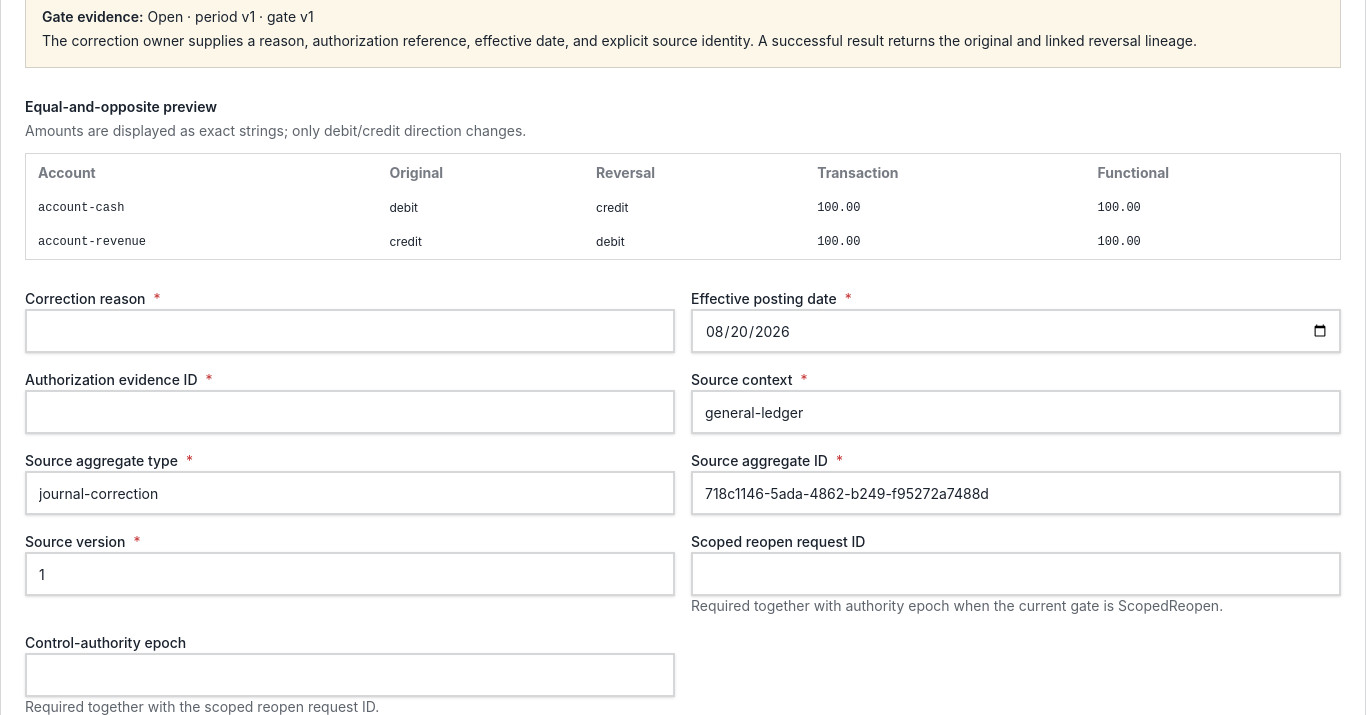
it: GL posting workbench › previews and submits a linked reversal with explicit reason and source evidence
The width and height of the screenshot is (1366, 715).
(page scrolled)
Expected: the heading "Equal-and-opposite preview" is shown, [25,98,217,115]
Type "Correct classification" into the field labelled "Correction reason".
click(350, 331); type("Correct classification")  # box [25,309,675,353]
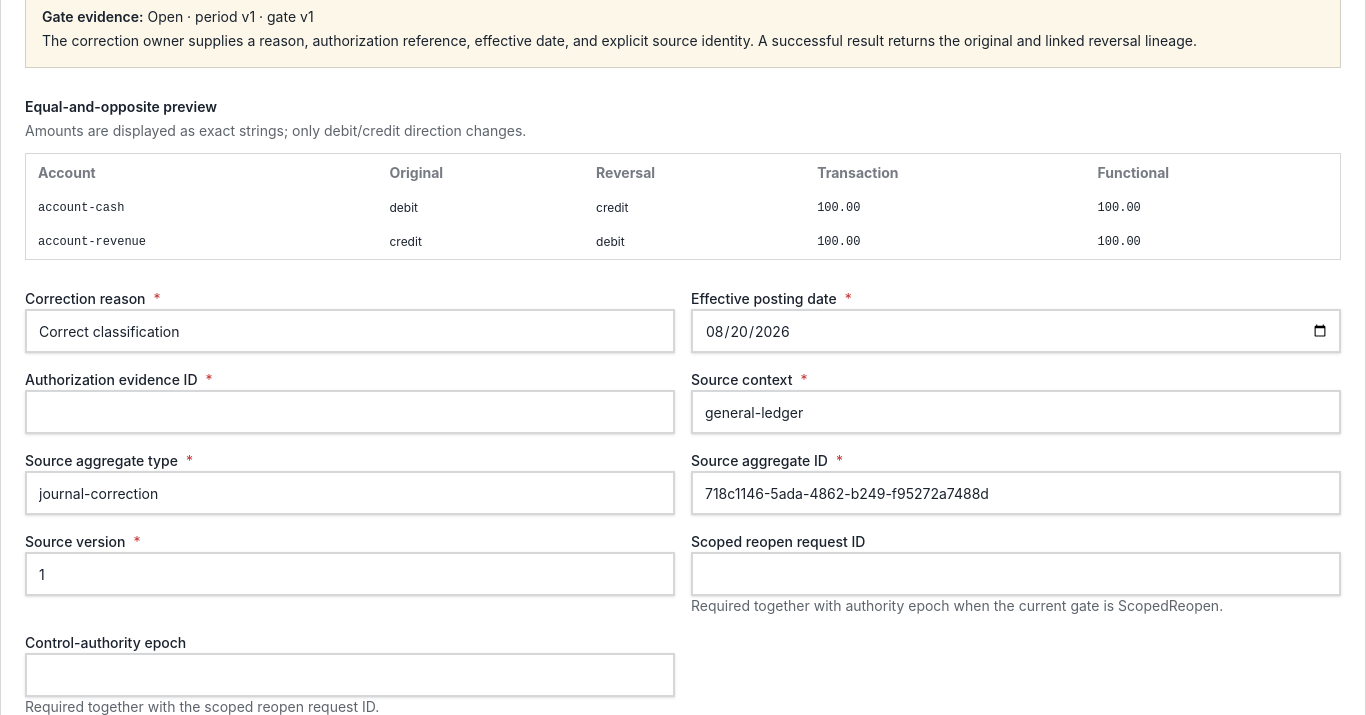
Type "authorization-1" into the field labelled "Authorization evidence ID".
click(350, 412); type("authorization-1")  # box [25,390,675,434]
(page scrolled)
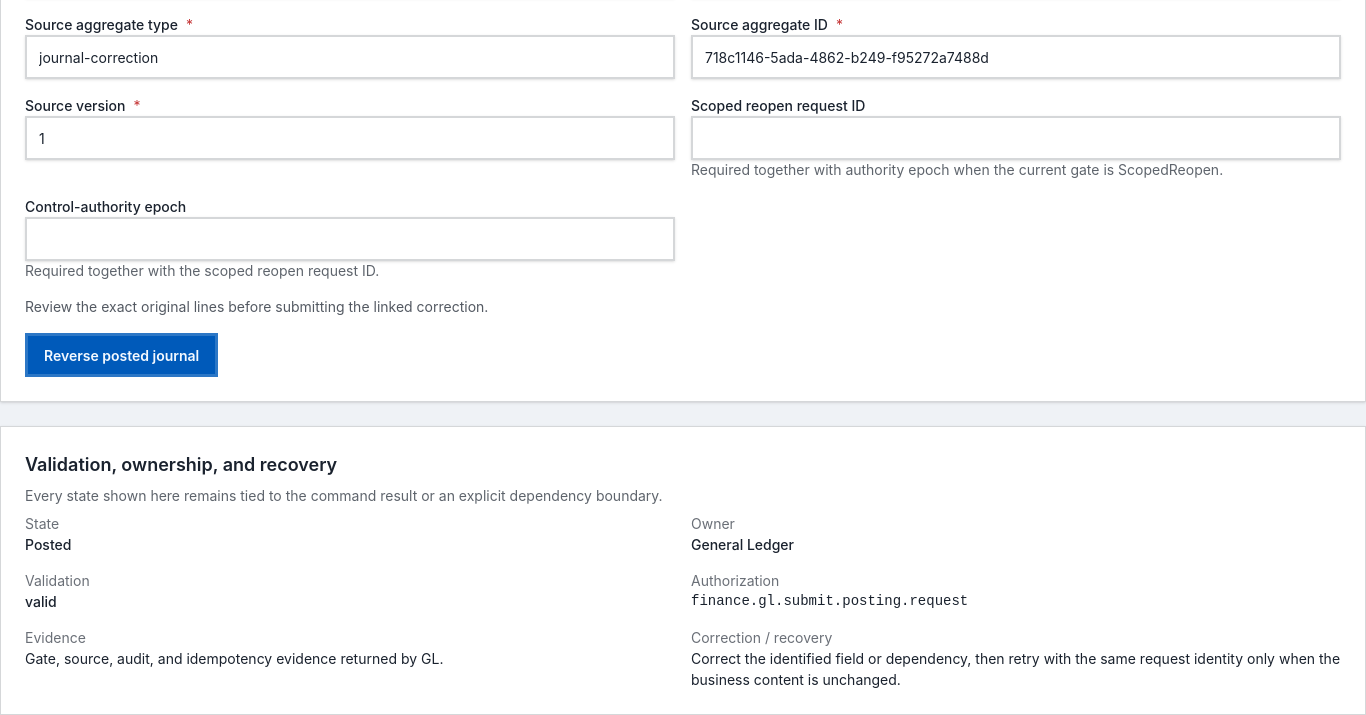
Click the button "Reverse posted journal".
click(122, 355)  # box [25,333,218,377]
(page scrolled)
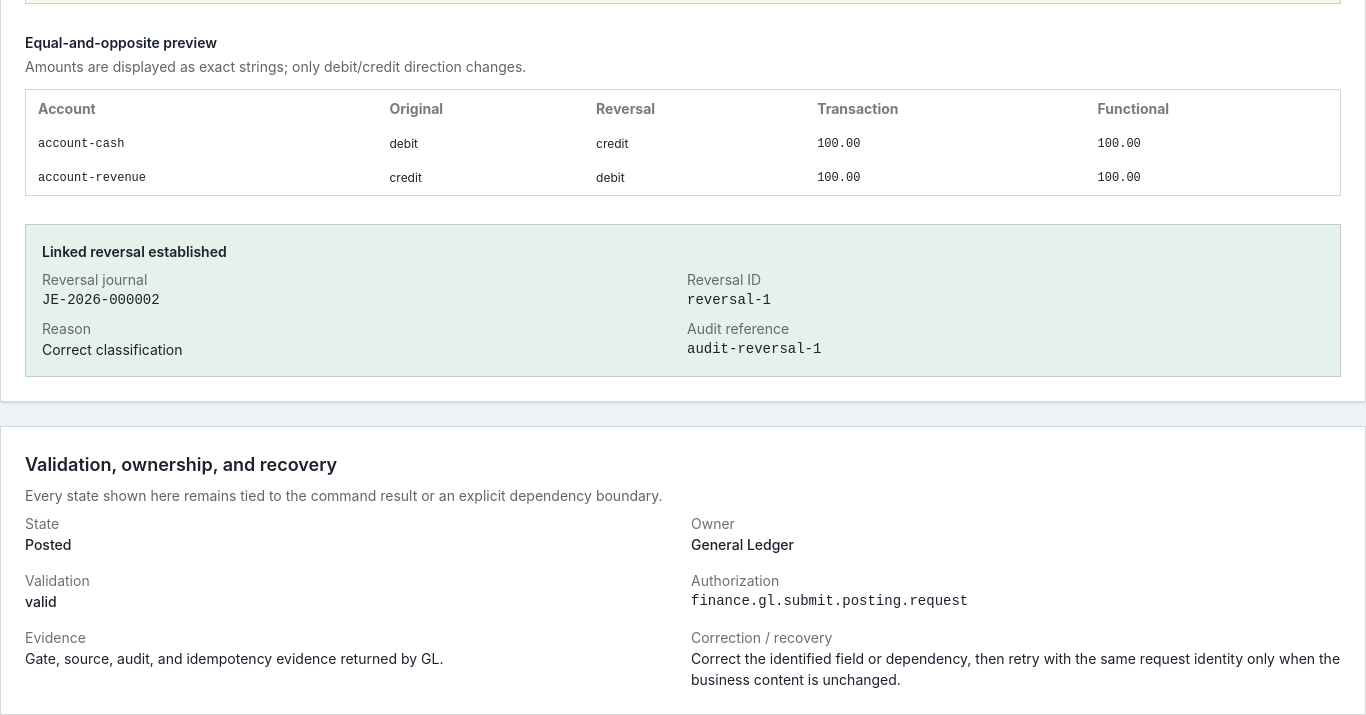
Expected: the text "Correct classification" is shown, [42,341,182,358]
Expected: the text "Linked reversal established" is shown, [42,243,227,260]
Expected: the text "JE-2026-000002" is shown, [42,292,160,308]
